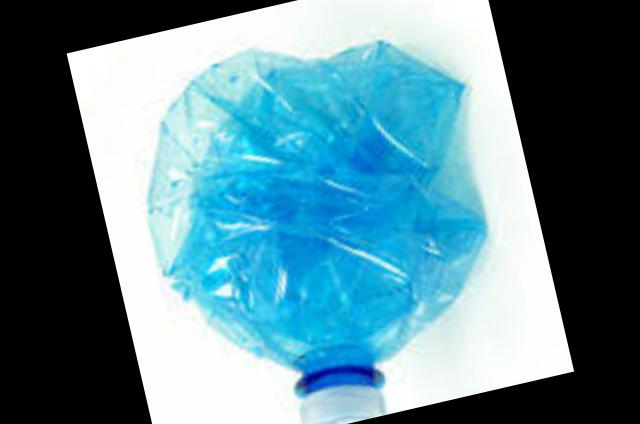plastic: (144, 38, 480, 424)
